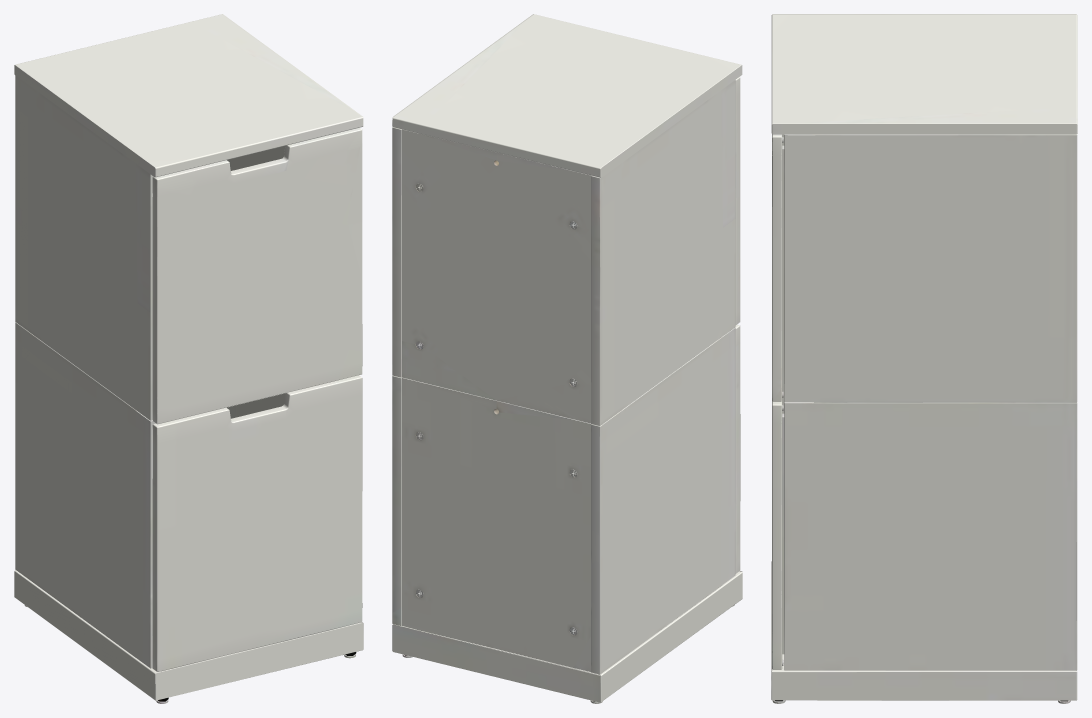
File: 27 - NORDLI - 抽屜櫃2抽, 白色, 40x99 公分 IKEA 線上購物.glb
The picture shows the model from 3 angles, left to right: view 1: azimuth 30°, elevation 25°; view 2: azimuth 150°, elevation 25°; view 3: azimuth 270°, elevation 25°; orthographic projection. The views are drawn at different scales.
Visible parts, largest first — view 1: 40401901-NORDLI001; view 2: 40401901-NORDLI001; view 3: 40401901-NORDLI001.
Boxes of the visible parts, x1,y1,x2,y2 form: 40401901-NORDLI001: [14, 14, 363, 703]; 40401901-NORDLI001: [392, 14, 742, 703]; 40401901-NORDLI001: [771, 14, 1077, 703].
Size of the model in its own units: 0.4001 by 0.9869 by 0.4706.
1 material, 1 textured.
